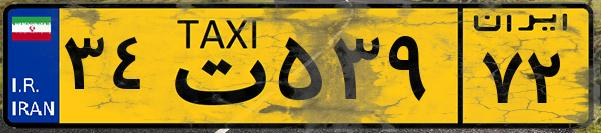2: (525, 38, 570, 115)
3: (330, 28, 385, 110), (57, 26, 110, 100)
4: (110, 28, 158, 98)
5: (270, 28, 330, 110)
7: (475, 38, 525, 113)
9: (385, 28, 445, 110)
ت: (158, 12, 270, 120)
